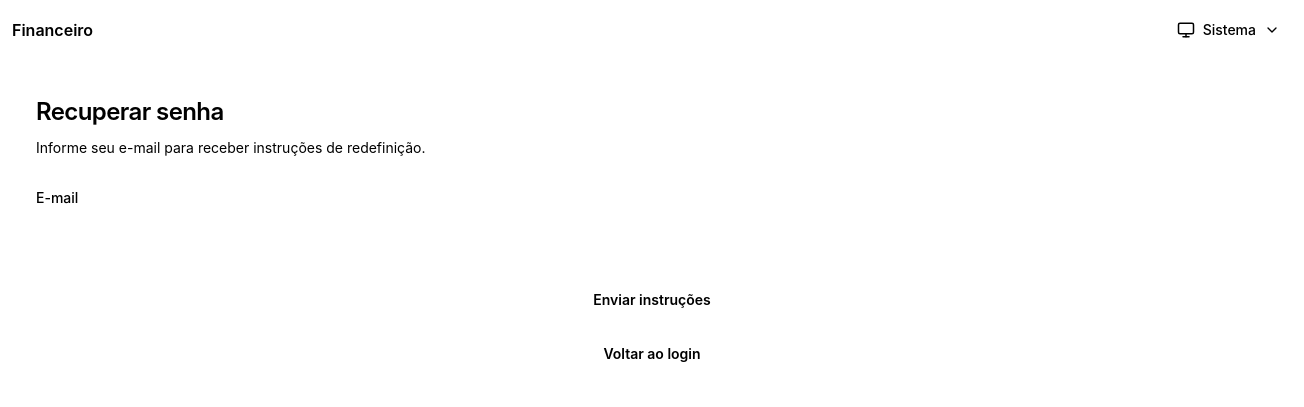
Scenario: páginas de autenticação › valida e foca o e-mail da recuperação
Click the button "Enviar instruções": (652, 300) [36, 280, 1268, 320]
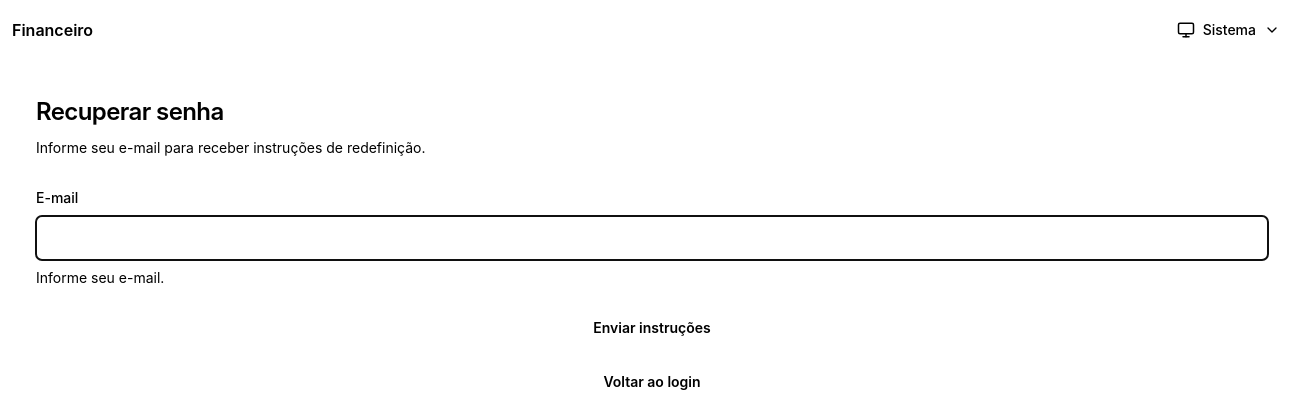
Check: the text "Informe seu e-mail." is shown, box [36, 269, 164, 286]
